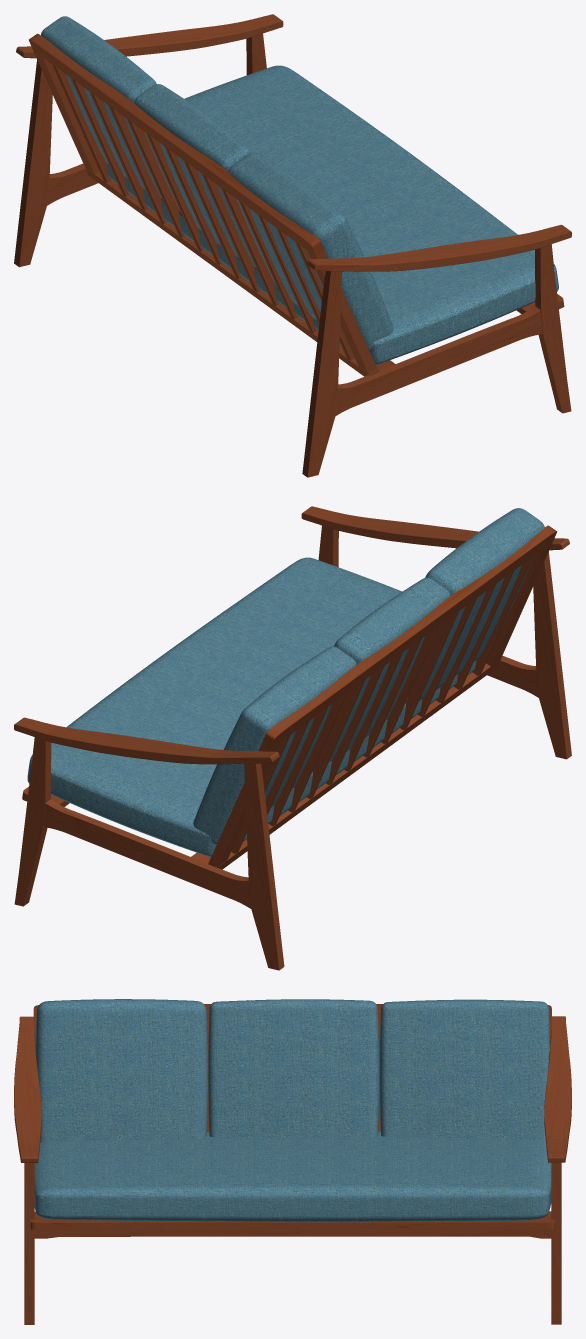
Rendered from RAYTEXT7.compressed.glb.
The picture shows the model from 3 angles, top to bottom: view 1: azimuth 30°, elevation 25°; view 2: azimuth 150°, elevation 25°; view 3: azimuth 270°, elevation 25°; orthographic projection. The views are drawn at different scales.
Parts seen in each view (by area): view 1: Cube.032, Cube; view 2: Cube.032, Cube; view 3: Cube.032, Cube.
Part boxes in pixels (<box>): Cube.032: <box>41,16,558,364</box>; Cube: <box>14,14,571,477</box>; Cube.032: <box>27,508,544,856</box>; Cube: <box>14,506,571,970</box>; Cube.032: <box>34,999,551,1222</box>; Cube: <box>14,1004,571,1324</box>.
Size of the model in its own units: 3.67 by 3.24 by 7.25.
2 materials, 2 textured.
